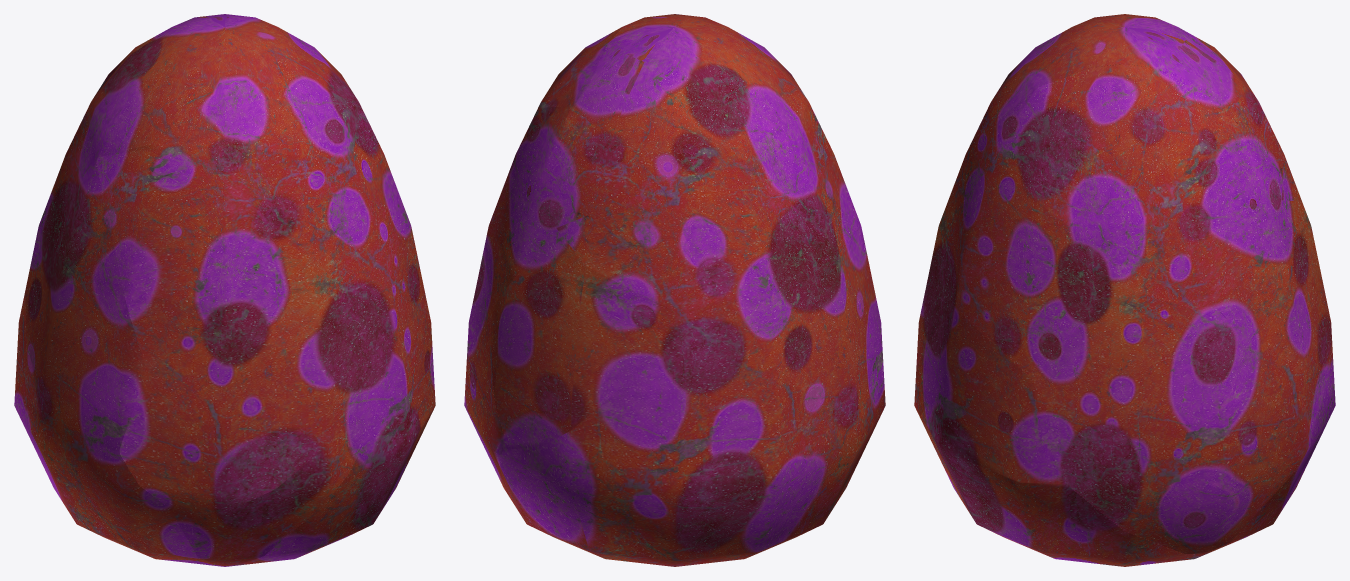
The model's file is egg_shattered_uv.FBX.
3 renders of one model, left to right at view 1: azimuth 30°, elevation 25°; view 2: azimuth 150°, elevation 25°; view 3: azimuth 270°, elevation 25°, orthographic.
Visible parts, largest first — view 1: Capsule002_Part_17, Capsule002_Part_10, Capsule002_Part_1, Capsule002_Part_2, Capsule002_Part_12, Capsule002_Part_15, Capsule002_Part_6, Capsule002_Part_8, Capsule002_Part_13, Capsule002_Part_7, Capsule002_Part_16, Capsule002_Part_3; view 2: Capsule002_Part_18, Capsule002_Part_15, Capsule002_Part_3, Capsule002_Part_2, Capsule002_Part_4, Capsule002_Part_1, Capsule002_Part_9, Capsule002_Part_11, Capsule002_Part_10, Capsule002_Part_16; view 3: Capsule002_Part_11, Capsule002_Part_16, Capsule002_Part_13, Capsule002_Part_9, Capsule002_Part_8, Capsule002_Part_7, Capsule002_Part_1, Capsule002_Part_4, Capsule002_Part_5, Capsule002_Part_12, Capsule002_Part_18, Capsule002_Part_15 (+2 smaller).
Part boxes in pixels (x1,y1,x2,y2): Capsule002_Part_17: (119, 322, 360, 512); Capsule002_Part_10: (96, 143, 312, 370); Capsule002_Part_1: (77, 14, 319, 164); Capsule002_Part_2: (25, 152, 147, 450); Capsule002_Part_12: (220, 164, 383, 373); Capsule002_Part_15: (14, 387, 218, 566); Capsule002_Part_6: (169, 375, 367, 566); Capsule002_Part_8: (361, 298, 435, 437); Capsule002_Part_13: (333, 151, 426, 312); Capsule002_Part_7: (237, 405, 435, 565); Capsule002_Part_16: (274, 25, 382, 170); Capsule002_Part_3: (15, 293, 38, 407); Capsule002_Part_18: (556, 88, 768, 310); Capsule002_Part_15: (500, 376, 885, 566); Capsule002_Part_3: (550, 295, 840, 478); Capsule002_Part_2: (725, 161, 883, 423); Capsule002_Part_4: (490, 228, 700, 442); Capsule002_Part_1: (587, 14, 804, 191); Capsule002_Part_9: (485, 106, 570, 309); Capsule002_Part_11: (464, 248, 510, 498); Capsule002_Part_10: (783, 66, 864, 244); Capsule002_Part_16: (537, 25, 625, 109); Capsule002_Part_11: (1035, 285, 1311, 554); Capsule002_Part_16: (989, 64, 1221, 244); Capsule002_Part_13: (952, 150, 1113, 378); Capsule002_Part_9: (1162, 111, 1289, 341); Capsule002_Part_8: (930, 303, 1068, 484); Capsule002_Part_7: (921, 399, 1204, 566); Capsule002_Part_1: (988, 14, 1216, 133); Capsule002_Part_4: (1265, 200, 1332, 428); Capsule002_Part_5: (1094, 215, 1229, 321); Capsule002_Part_12: (924, 129, 989, 332); Capsule002_Part_18: (1211, 47, 1301, 201); Capsule002_Part_15: (1200, 380, 1335, 556).
Size of the model in its own units: 1752 by 2334 by 1752.
